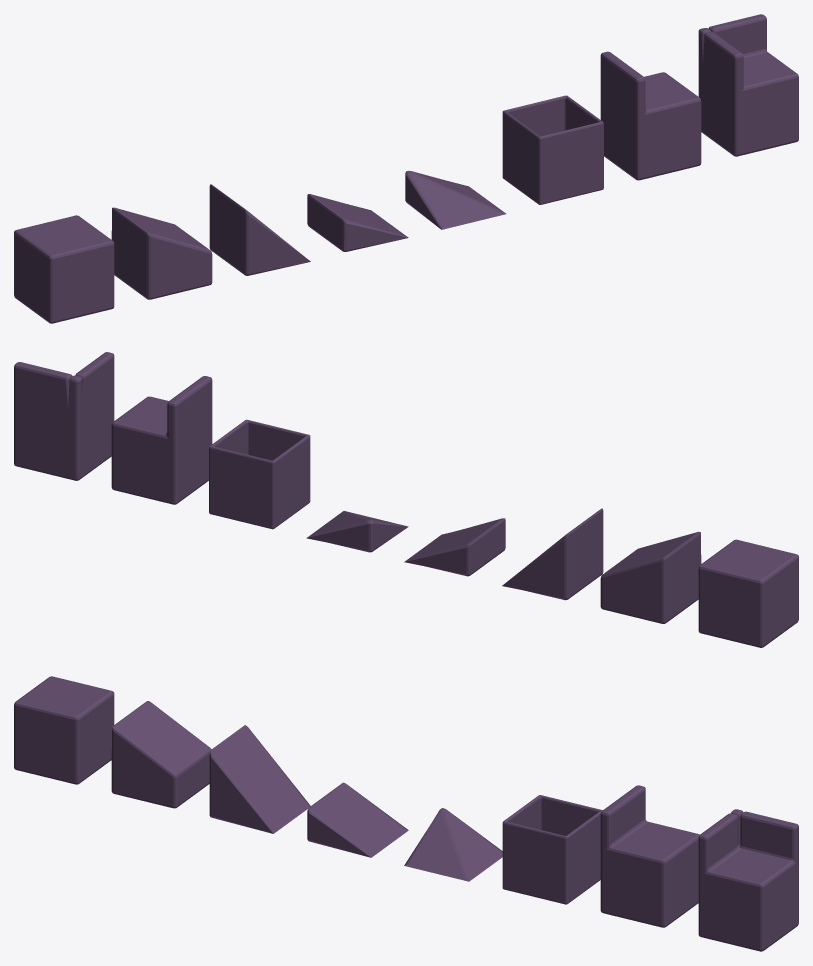
File: blocksv1.glb
3 views of the same model, one above another, from view 1: azimuth 30°, elevation 25°; view 2: azimuth 150°, elevation 25°; view 3: azimuth 330°, elevation 25° (orthographic).
Parts seen in each view (by area): view 1: lvl_wallcornerblock, lvl_wallblock, lvl_hollowblock, lvl_genblock, lvl_rampshallow, lvl_rampsteep, lvl_rampcorner, lvl_ramphalf; view 2: lvl_wallcornerblock, lvl_wallblock, lvl_hollowblock, lvl_genblock, lvl_rampshallow, lvl_rampsteep, lvl_ramphalf, lvl_rampcorner; view 3: lvl_wallcornerblock, lvl_wallblock, lvl_hollowblock, lvl_genblock, lvl_rampshallow, lvl_rampsteep, lvl_ramphalf, lvl_rampcorner.
Part boxes in pixels (x1,y1,x2,y2): lvl_wallcornerblock: (698, 14, 798, 156); lvl_wallblock: (600, 51, 701, 180); lvl_hollowblock: (502, 95, 603, 204); lvl_genblock: (14, 215, 114, 323); lvl_rampshallow: (111, 207, 212, 299); lvl_rampsteep: (209, 184, 310, 275); lvl_rampcorner: (405, 171, 506, 229); lvl_ramphalf: (307, 194, 408, 251); lvl_wallcornerblock: (14, 352, 114, 480); lvl_wallblock: (111, 376, 212, 504); lvl_hollowblock: (209, 419, 310, 529); lvl_genblock: (698, 539, 798, 647); lvl_rampshallow: (600, 531, 701, 623); lvl_rampsteep: (502, 508, 603, 600); lvl_ramphalf: (404, 518, 505, 576); lvl_rampcorner: (306, 511, 408, 552); lvl_wallcornerblock: (698, 809, 798, 951); lvl_wallblock: (600, 785, 699, 927); lvl_hollowblock: (502, 795, 602, 904); lvl_genblock: (14, 676, 114, 784); lvl_rampshallow: (111, 701, 211, 808); lvl_rampsteep: (209, 725, 310, 833); lvl_ramphalf: (307, 782, 408, 857); lvl_rampcorner: (404, 808, 502, 881).
Size of what is drawn, in the model's own units: 23 by 3 by 2.
